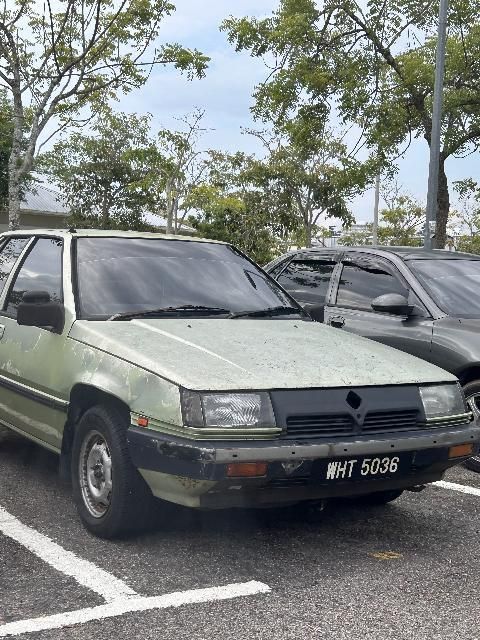License_Plate: (317, 454, 411, 486)
WHT5036: (317, 454, 411, 486)
car: (1, 214, 480, 533), (240, 240, 480, 466)
